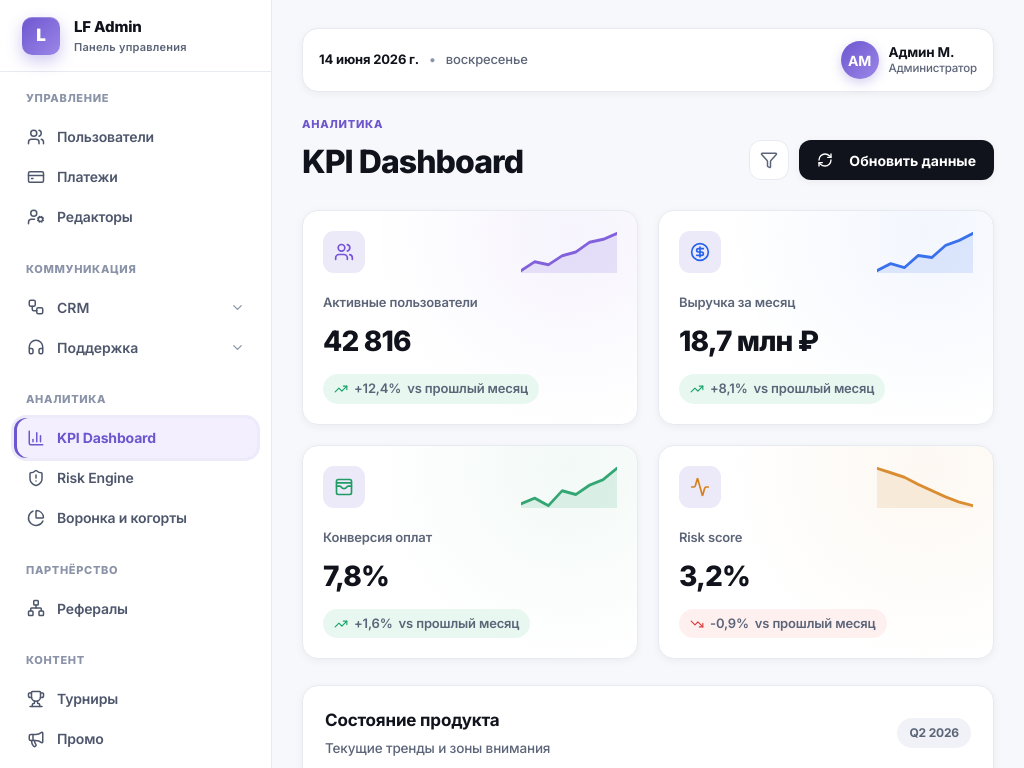
AC-8: Navigation works without page reload (SPA) › clicking a nav link updates the content area
Expected: the heading "KPI Dashboard" is shown, [302,142,523,180]
Step 1. Click the link "Платежи" → click(72, 176), box [27,168,118,186]
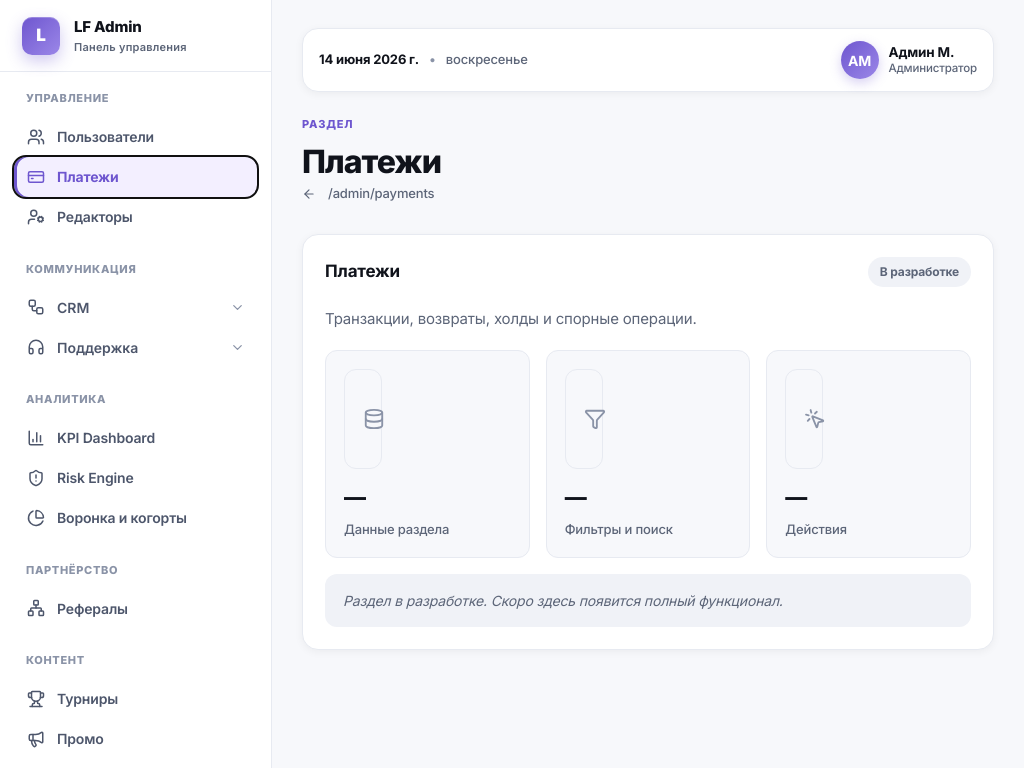
Now the 1st heading "Платежи" is shown, box [302,142,441,180]
